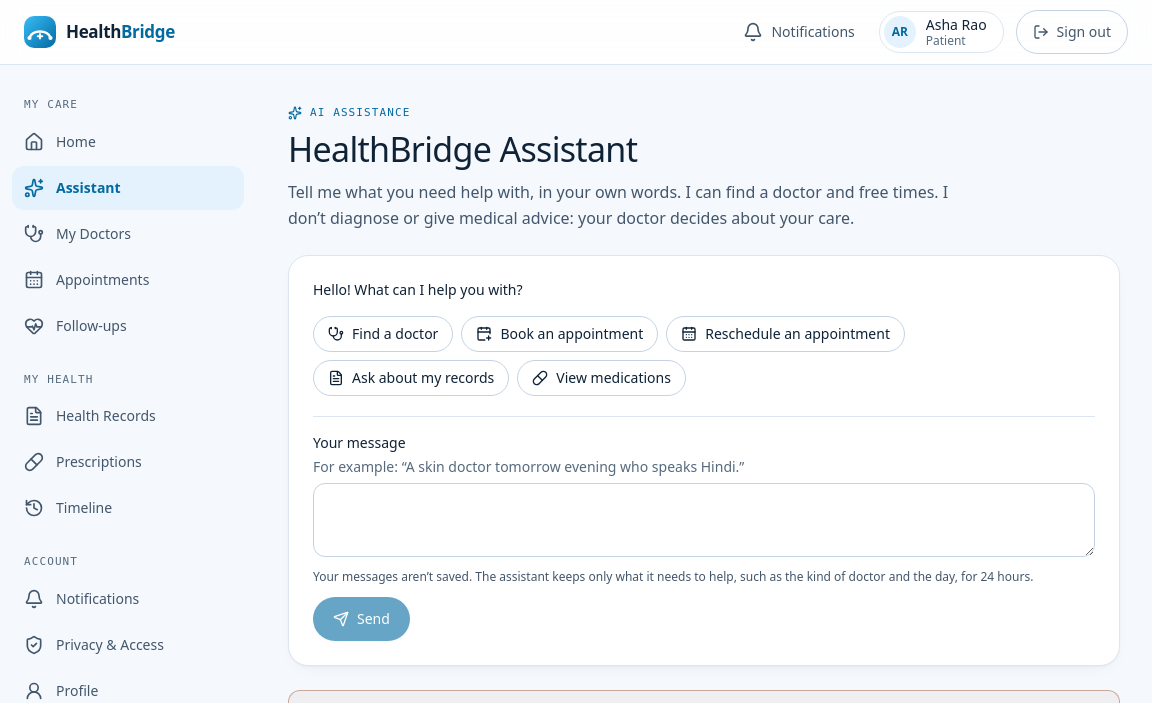
HealthBridge Assistant › shows grounded suggestions as AI, separate from anything booked
Click the button "Find a doctor" at (383, 334), box [313,316,453,352]
(page scrolled)
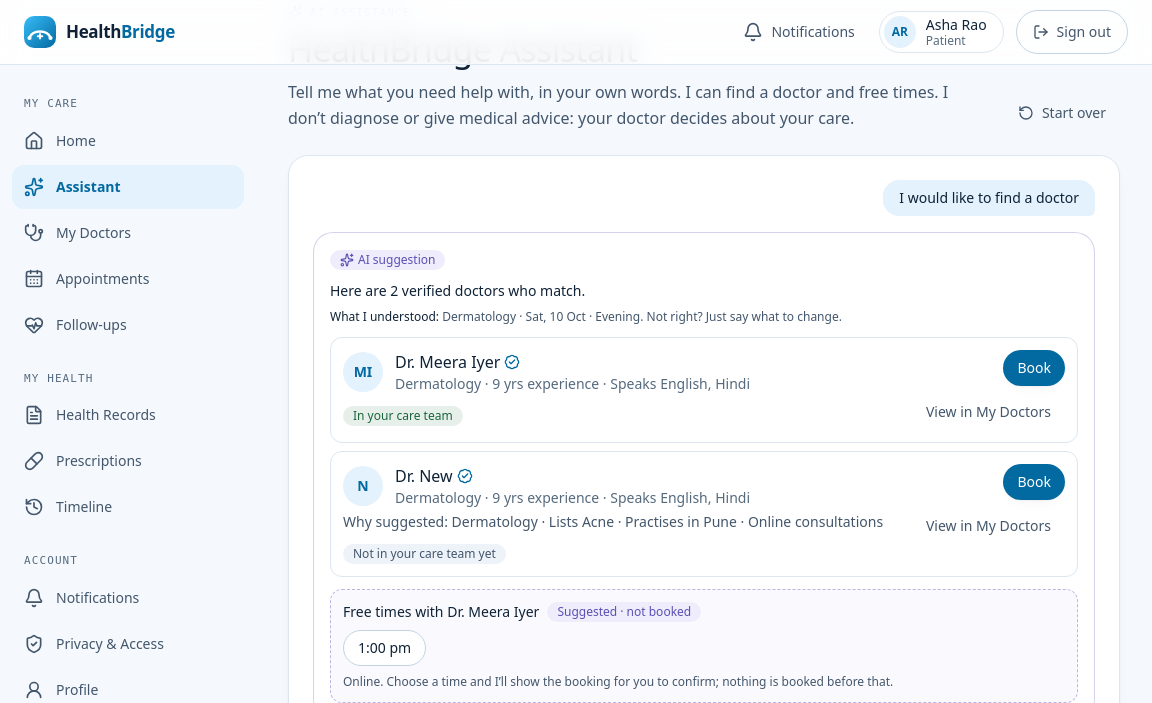
expect the text "Here are 2 verified doctors who match." is shown: met, box [330,281,585,300]
expect the text "AI suggestion" is shown: met, box [330,250,445,270]
expect the text "Suggested · not booked" is shown: met, box [547,602,701,622]
